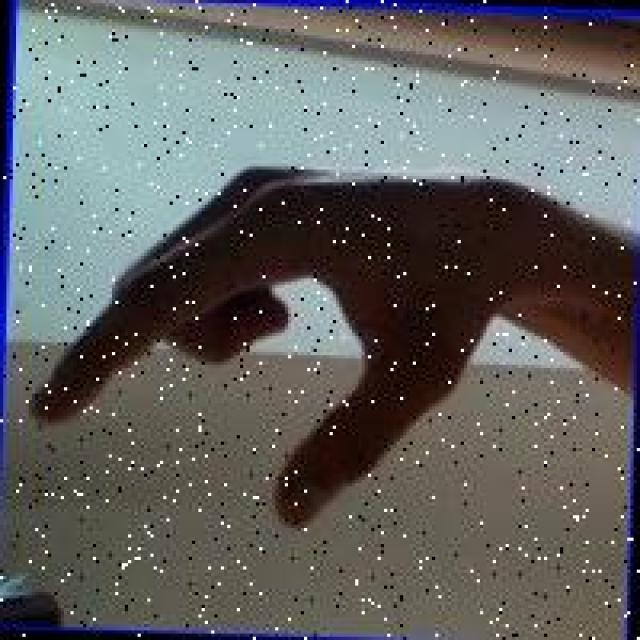Q: (19, 144, 528, 541)
